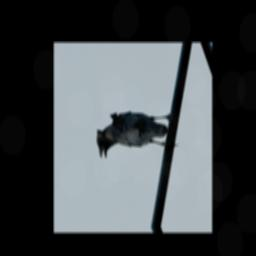Crow: (92, 109, 181, 160)
